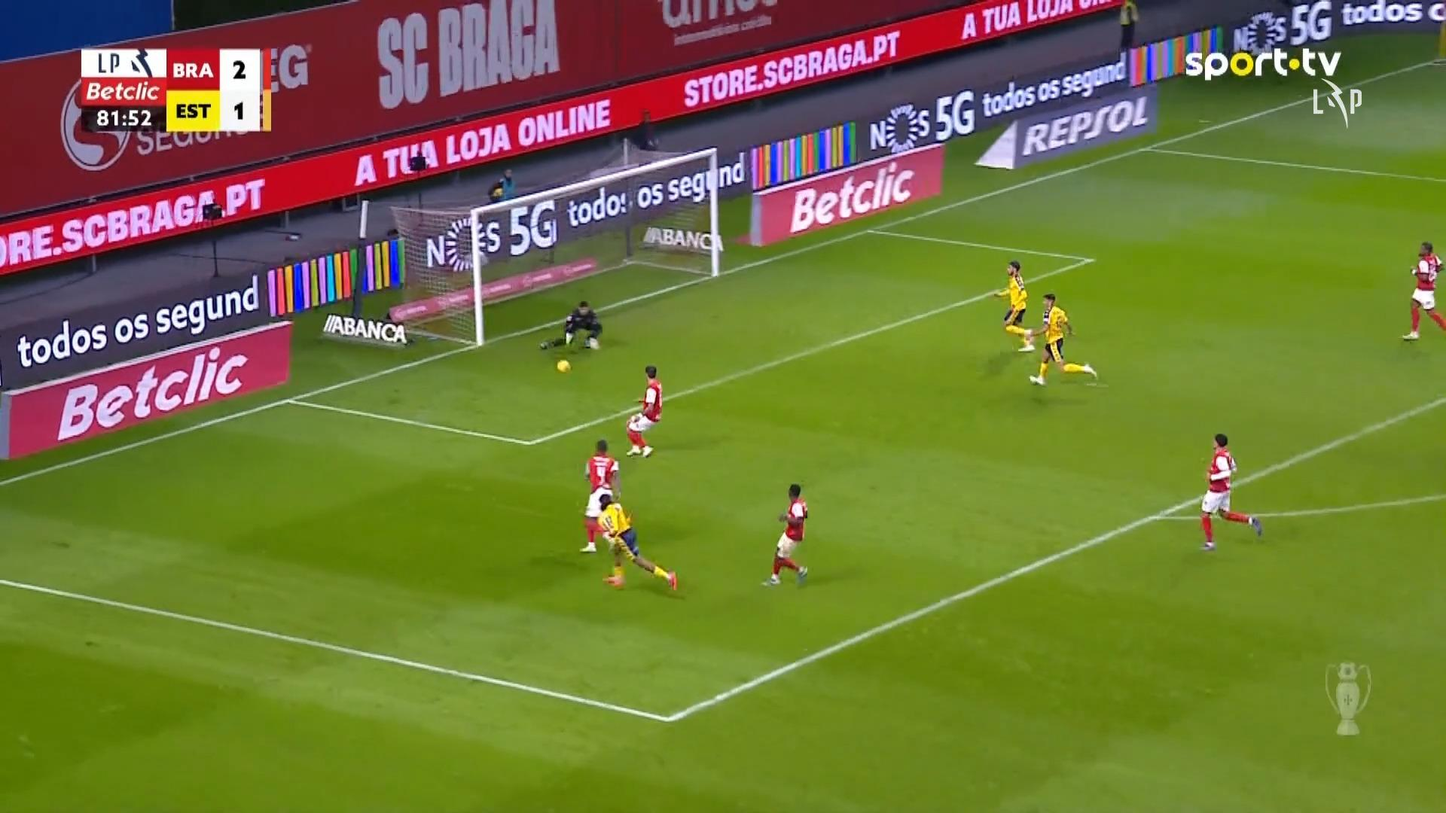ball: (555, 359, 570, 373)
goalkeeper: (537, 303, 603, 350)
player: (595, 490, 678, 592), (1198, 432, 1263, 550), (1027, 292, 1097, 385), (761, 483, 809, 586), (579, 438, 621, 553), (1401, 241, 1444, 340), (993, 259, 1036, 352), (624, 364, 663, 457)
